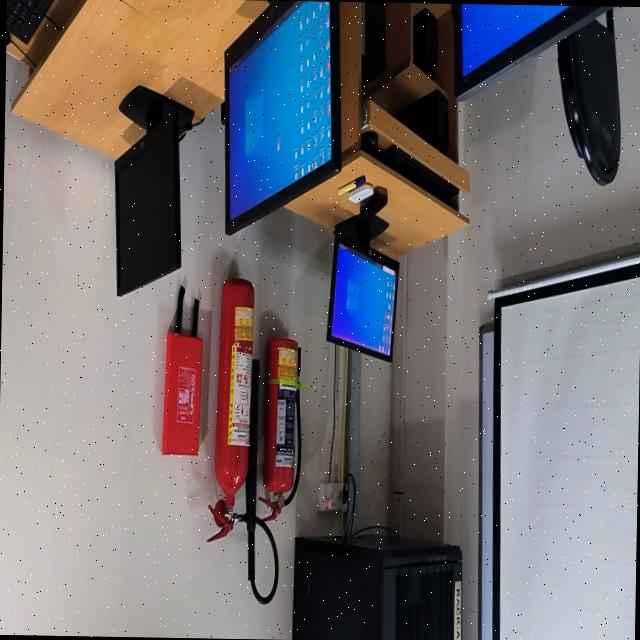Chair: (556, 9, 619, 184)
Cpu: (361, 1, 384, 85)
Fire Extinguisher: (214, 277, 253, 511), (262, 337, 298, 505)
Keyboard: (378, 145, 457, 202), (5, 0, 52, 42)
Monitor: (221, 0, 340, 232), (113, 84, 193, 294), (451, 2, 613, 99), (325, 204, 398, 360)
Mouse: (360, 130, 377, 153)
